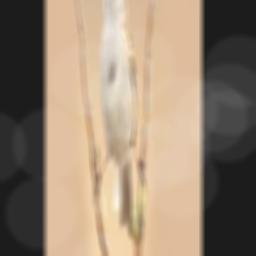Sparrow: (93, 0, 145, 237)
